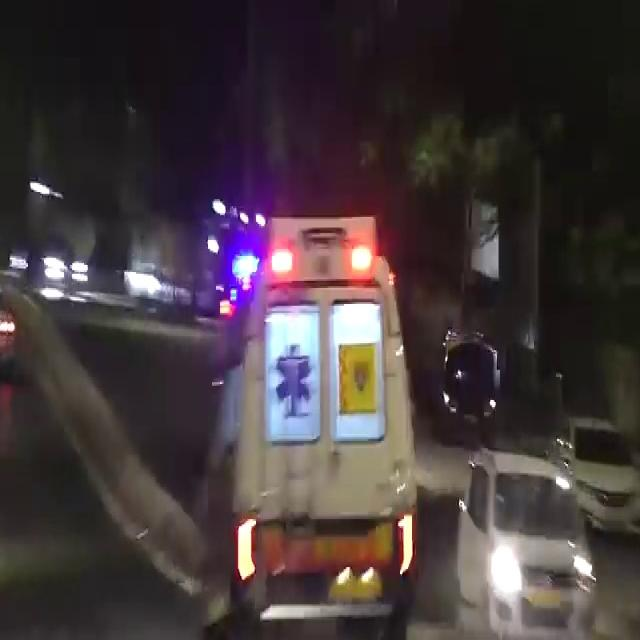ambulance: (217, 196, 415, 609)
